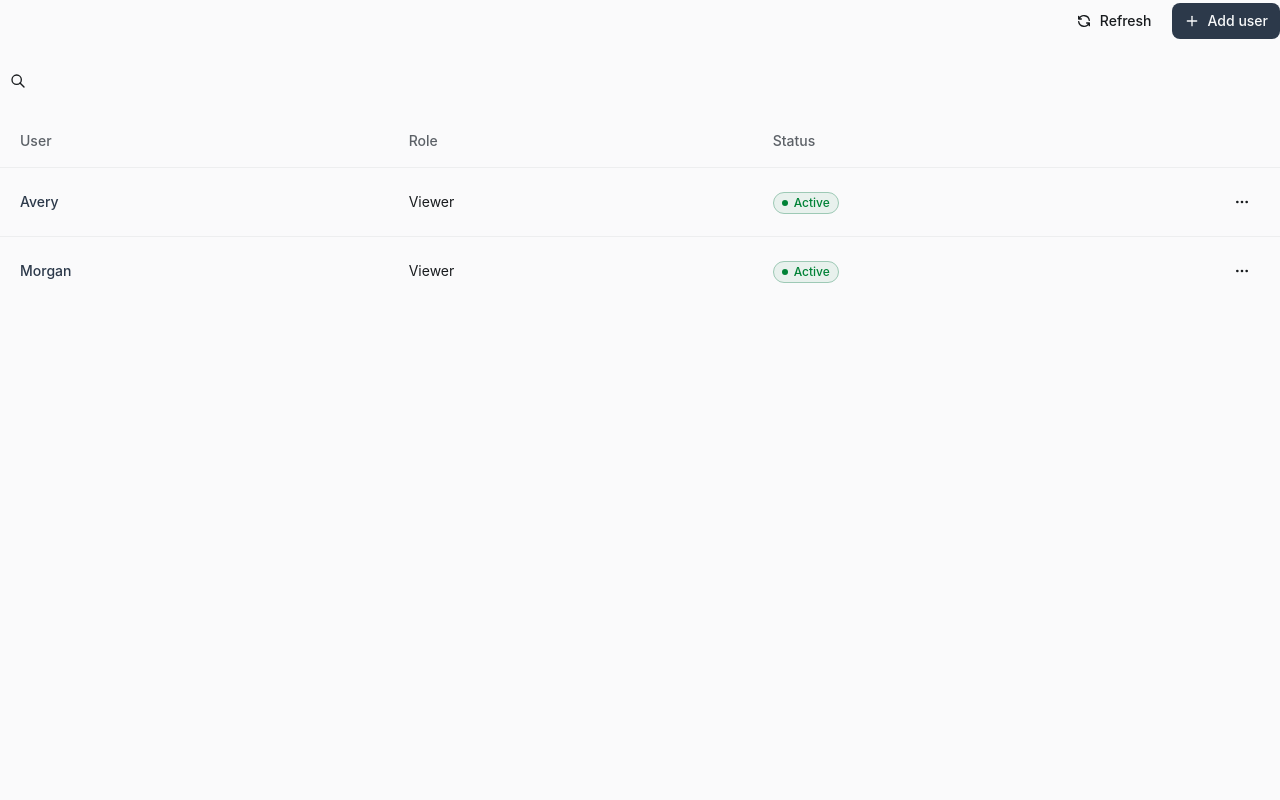
Test: operator administration workflow › issues sessions only for the selected operator and clears one-time credentials when selection changes
The width and height of the screenshot is (1280, 800).
Click the button "Avery": (39, 202) [20, 192, 59, 212]
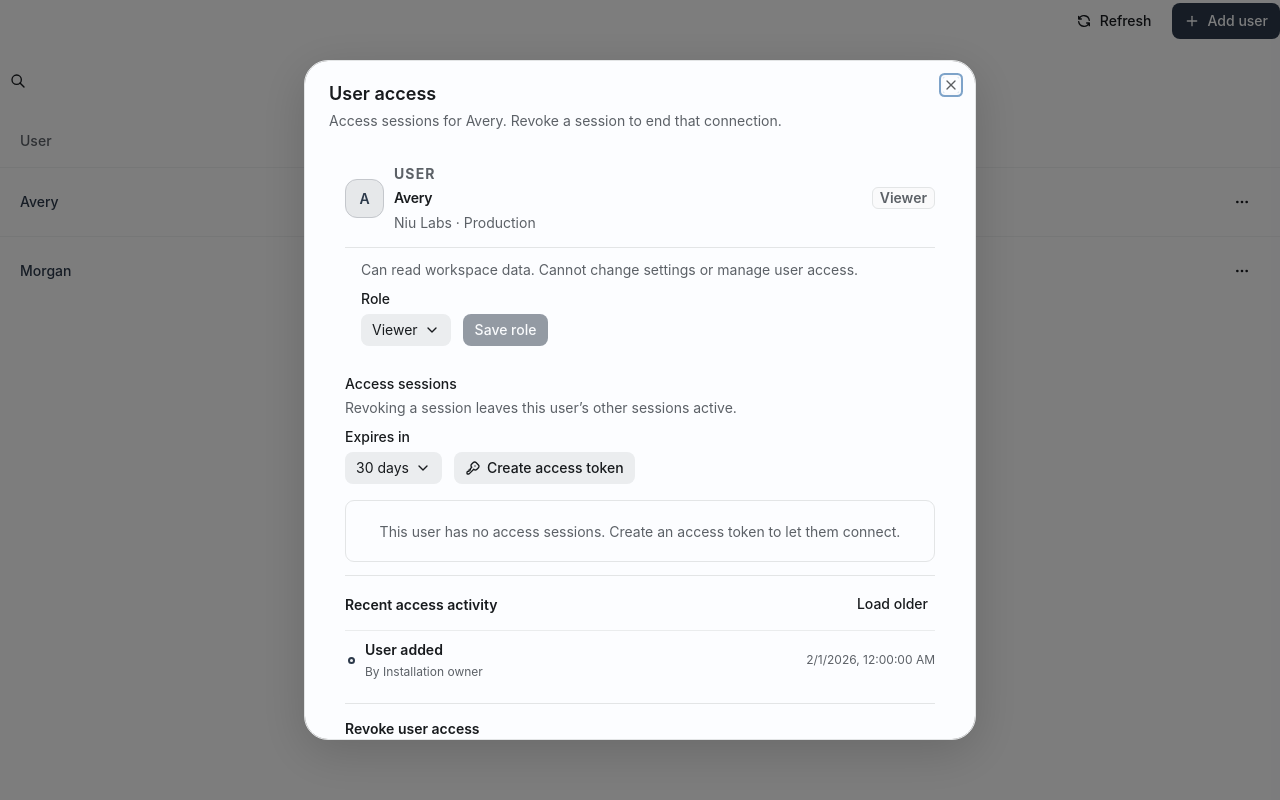
Click the button "Create access token": (544, 468) [454, 452, 635, 484]
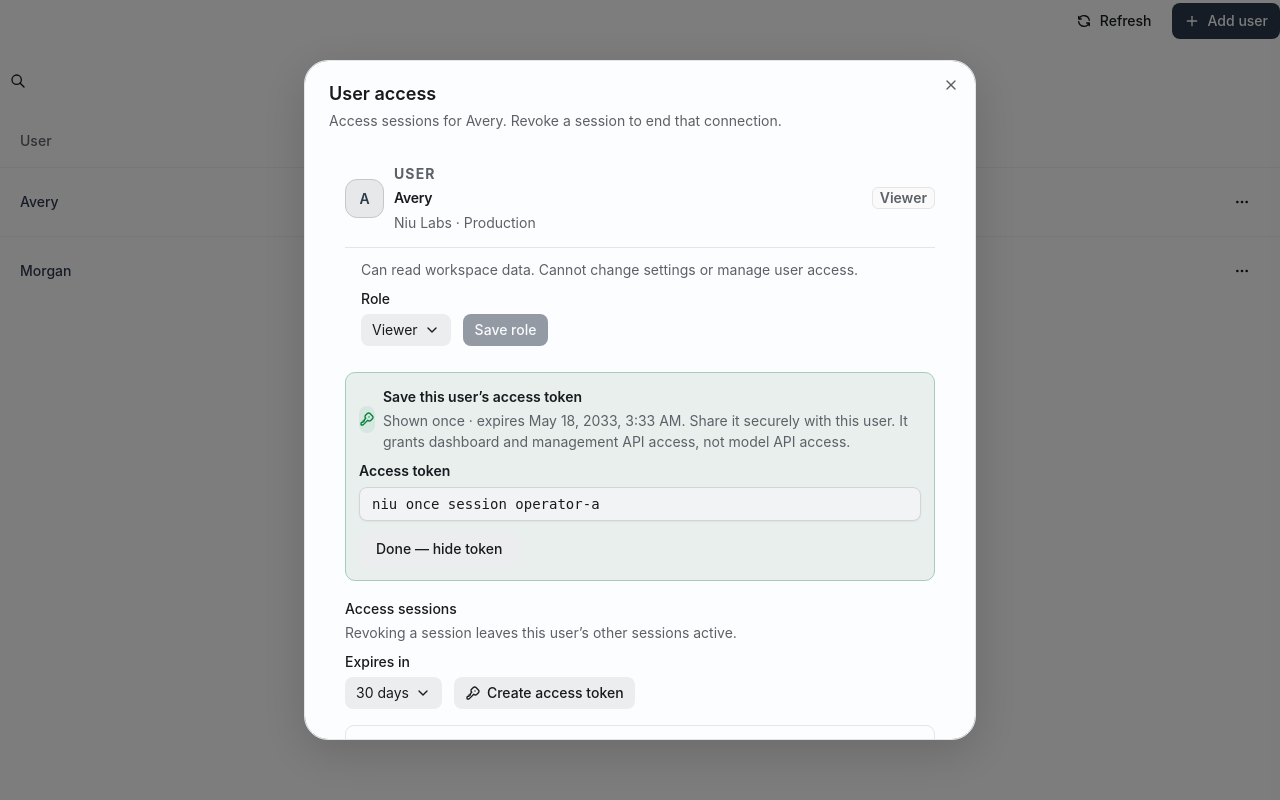
Check: the field labelled "Access token" holds "niu_once_session_operator-a", box [359, 487, 921, 521]
Click the button named "Close": (951, 85) [943, 77, 959, 93]
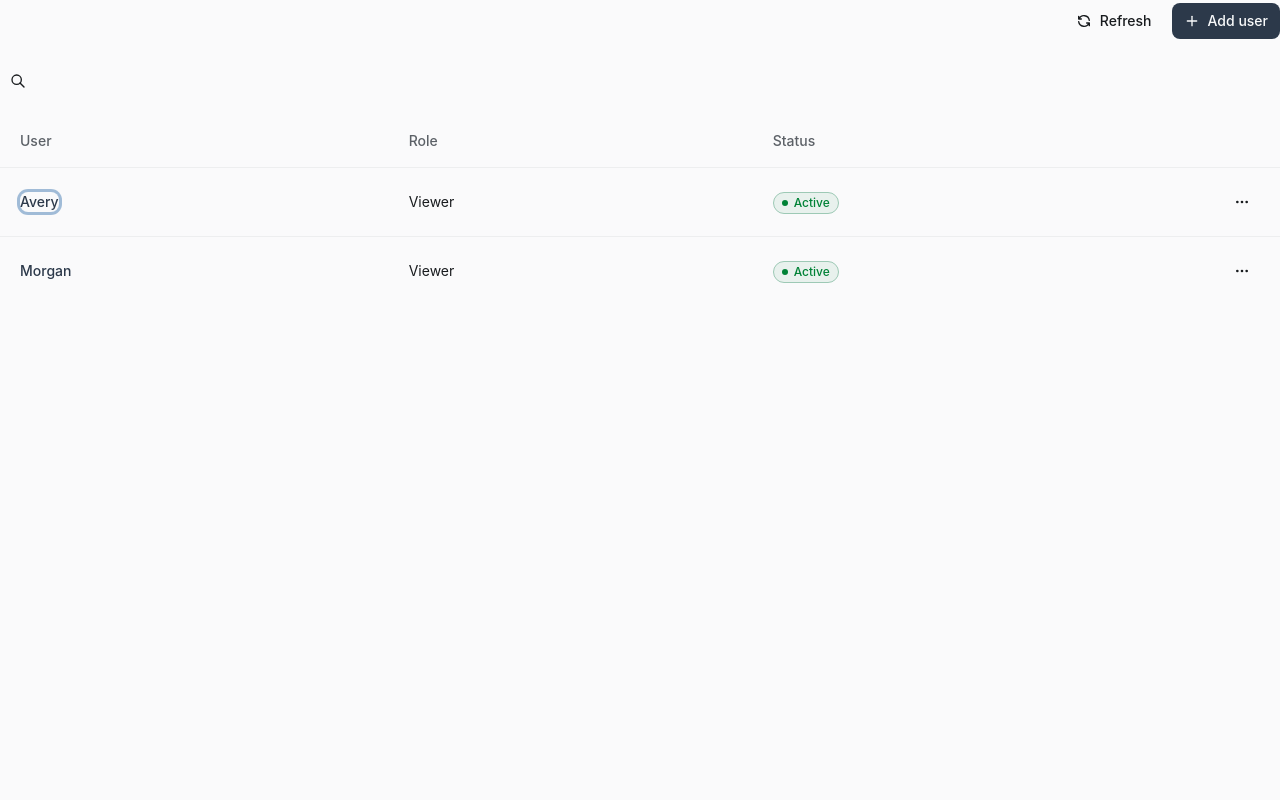
Click the button "Morgan": (46, 271) [20, 261, 71, 281]
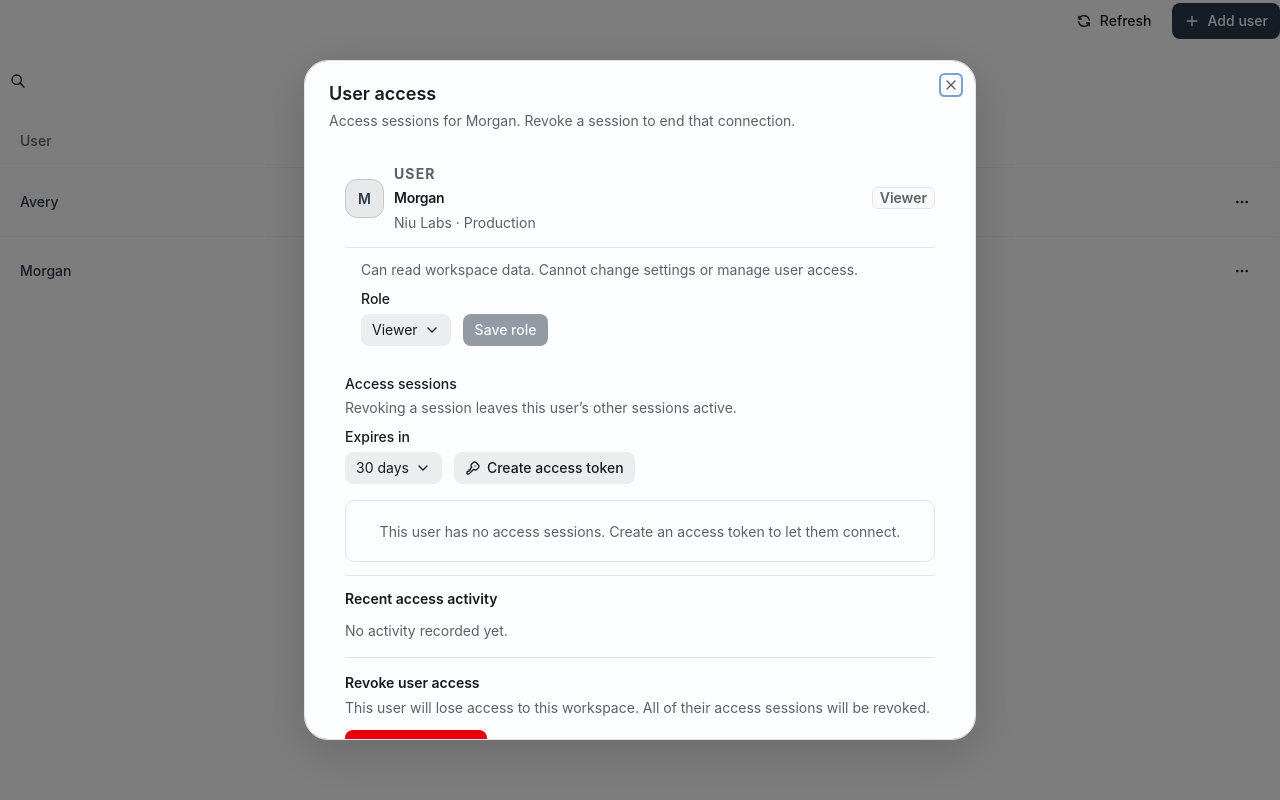
Check: the field showing "niu_once_session_operator-a" is not shown
Check: the heading "Morgan" is shown, box [394, 189, 444, 206]
Click the button "Create access token": (544, 468) [454, 452, 635, 484]
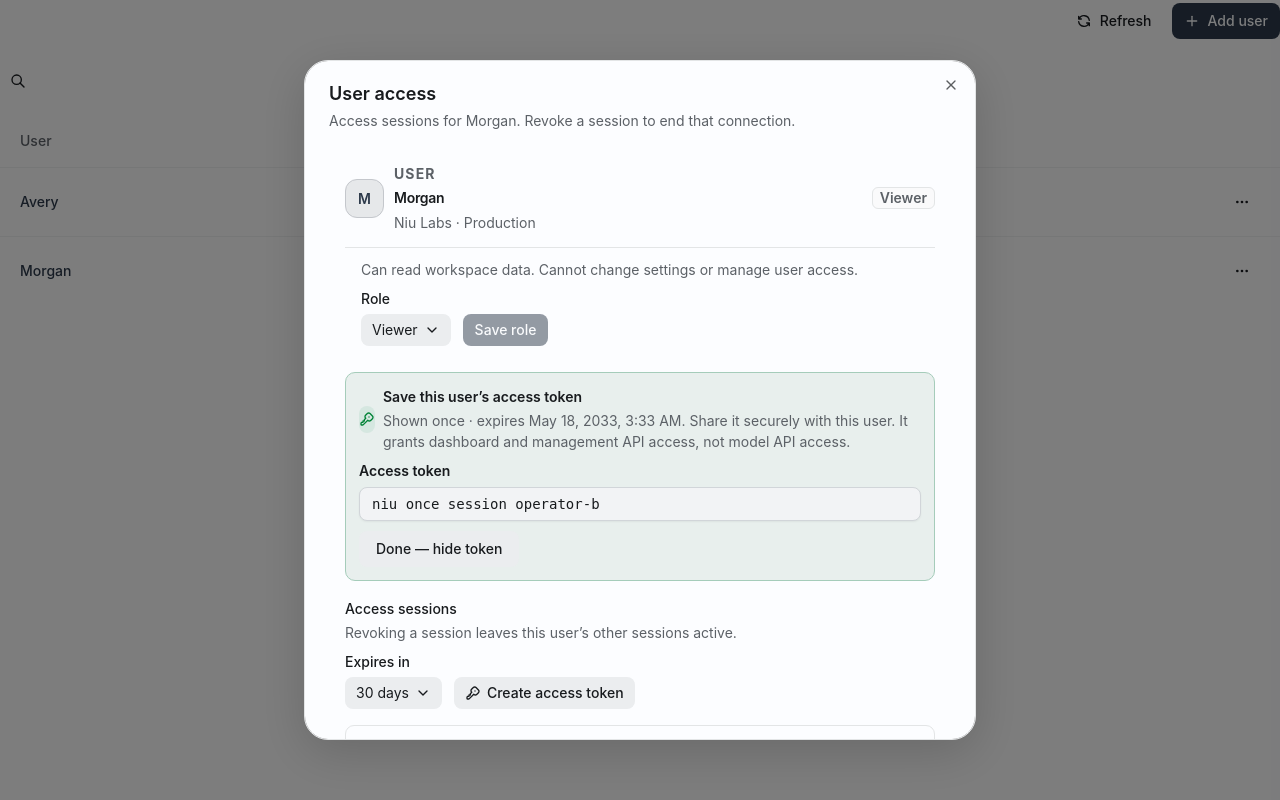
Check: the field labelled "Access token" holds "niu_once_session_operator-b", box [359, 487, 921, 521]
